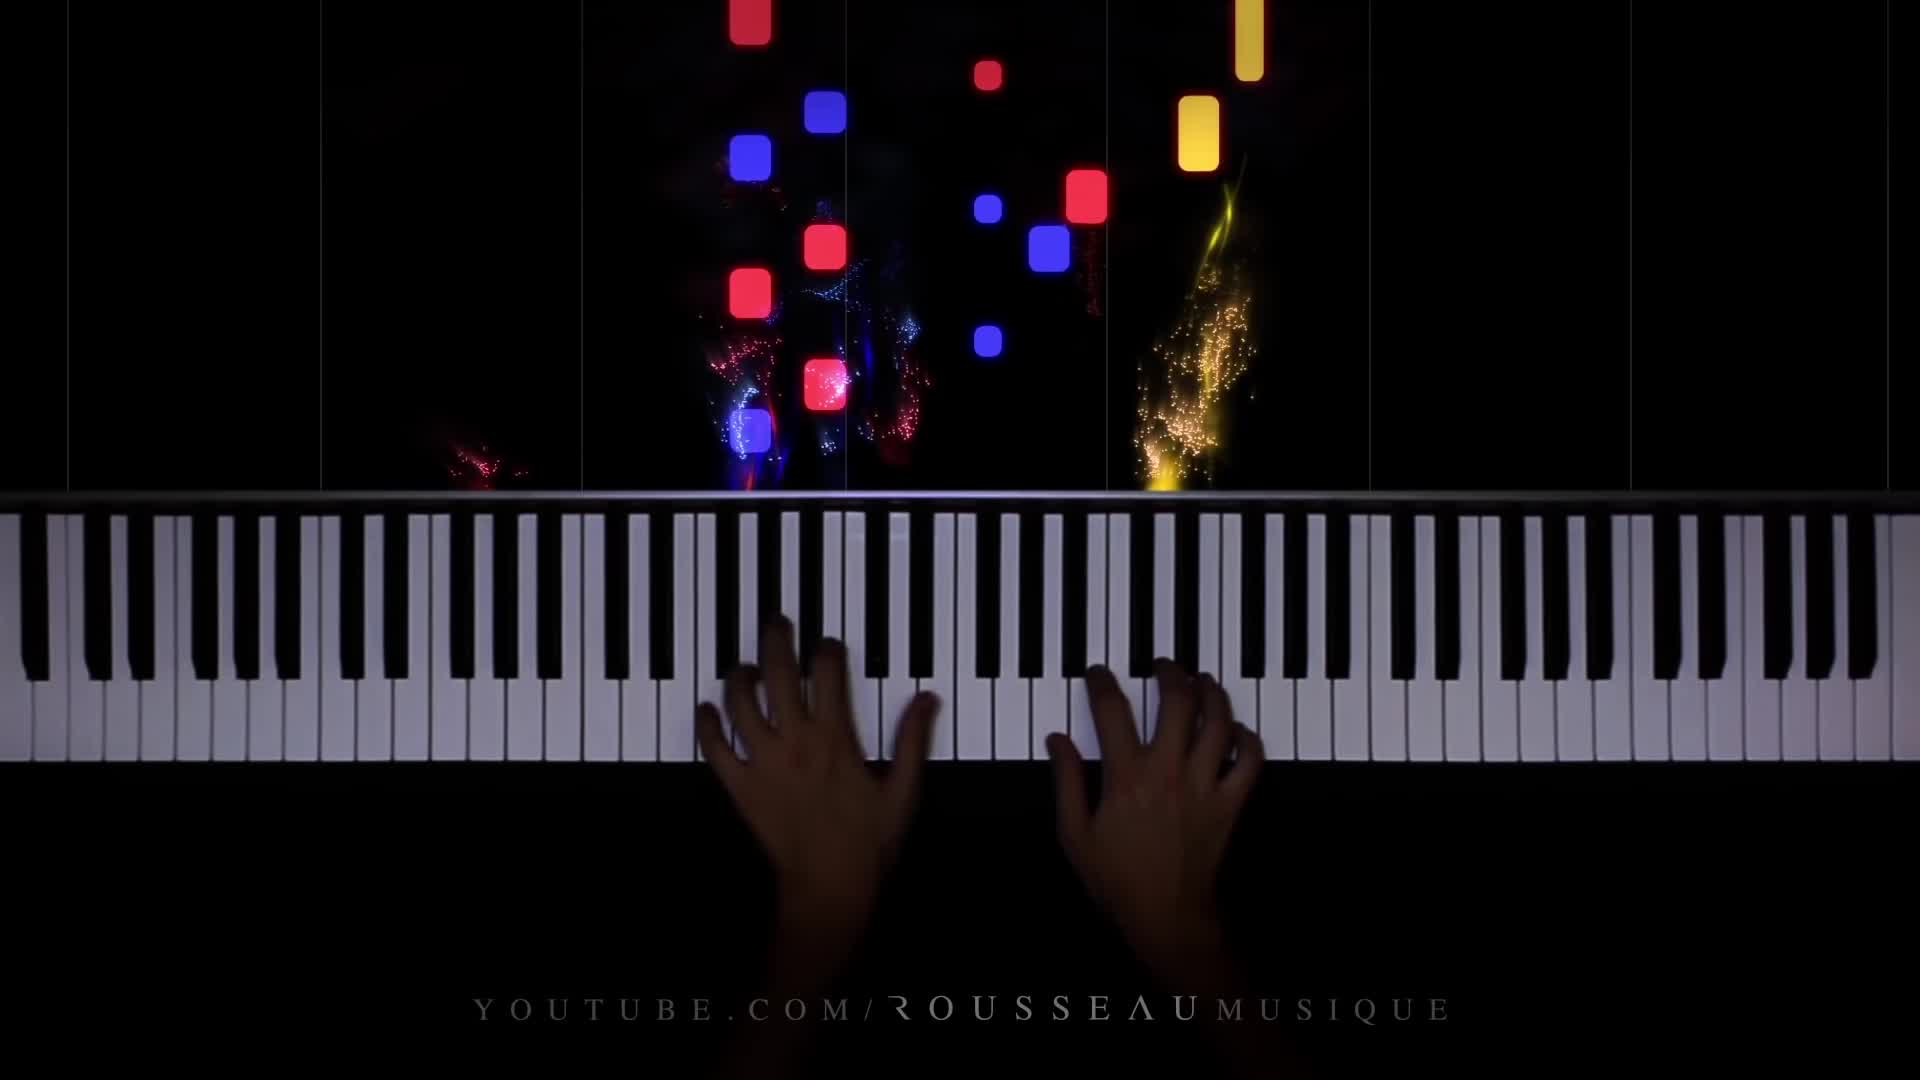left: (698, 615, 942, 864)
right: (1044, 654, 1265, 891)
